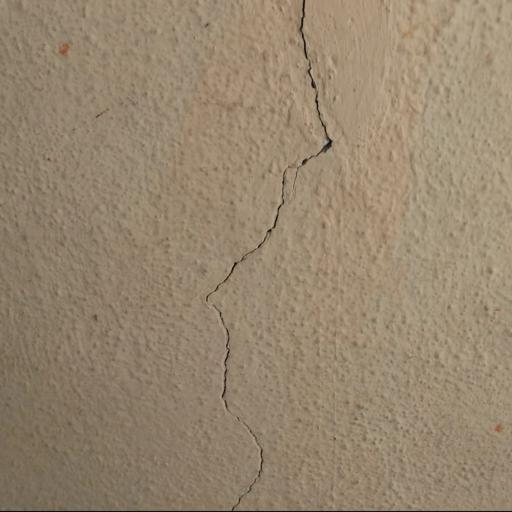minor_crack: (199, 0, 346, 512)
